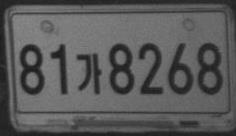1: (49, 43, 75, 94)
2: (137, 41, 163, 94)
6: (167, 43, 194, 95)
8: (196, 41, 223, 95), (18, 43, 45, 95), (108, 42, 134, 95)
가: (77, 53, 102, 94)
